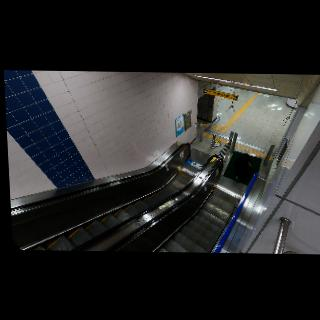anomaly: (228, 151, 255, 186)
